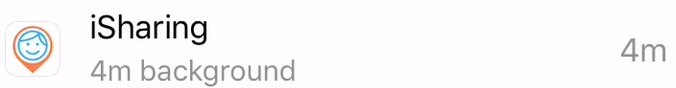name: (79, 5, 225, 51)
time: (87, 56, 135, 88)
